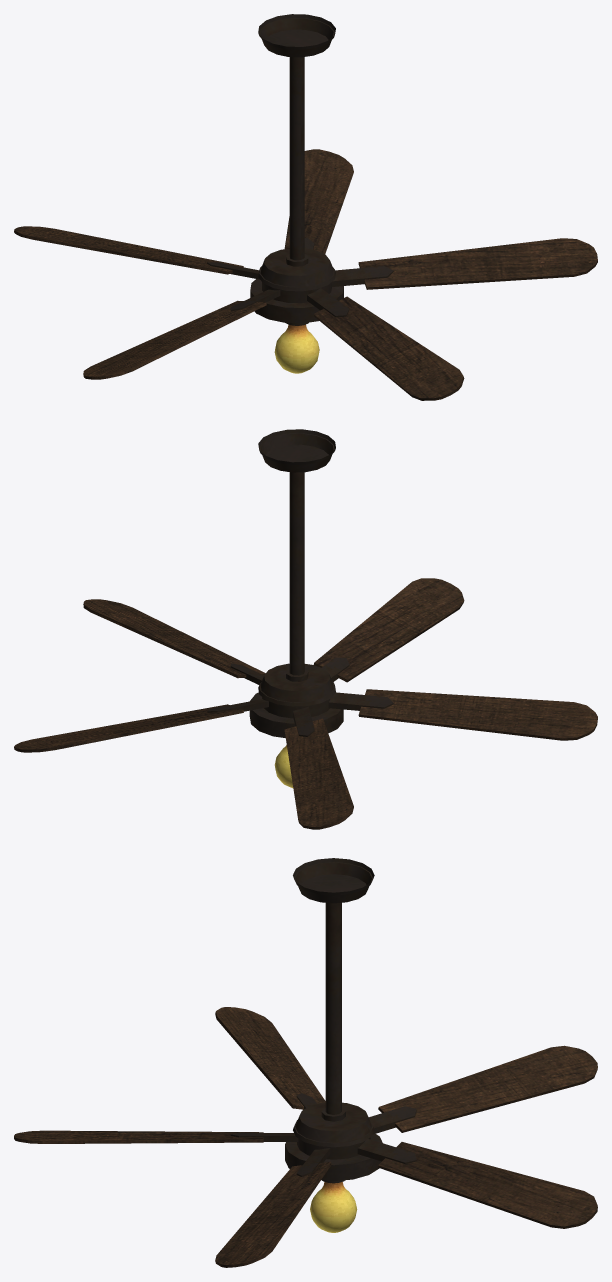
The model's file is ceiling_fan_mp_2_1_light_on.dae.
The picture shows the model from 3 angles, top to bottom: view 1: azimuth 30°, elevation 25°; view 2: azimuth 150°, elevation 25°; view 3: azimuth 270°, elevation 25°; orthographic projection. The views are drawn at different scales.
Parts seen in each view (by area): view 1: ceiling_fan_mp_2_1_light_on_blades, ceiling_fan_mp_2_1_light_on; view 2: ceiling_fan_mp_2_1_light_on_blades, ceiling_fan_mp_2_1_light_on; view 3: ceiling_fan_mp_2_1_light_on_blades, ceiling_fan_mp_2_1_light_on.
Boxes of the visible parts, x1,y1,x2,y2 form: ceiling_fan_mp_2_1_light_on_blades: (14,149,597,400); ceiling_fan_mp_2_1_light_on: (250,14,343,373); ceiling_fan_mp_2_1_light_on_blades: (14,578,597,829); ceiling_fan_mp_2_1_light_on: (249,429,343,788); ceiling_fan_mp_2_1_light_on_blades: (14,1007,597,1267); ceiling_fan_mp_2_1_light_on: (285,858,382,1232).
Size of the model in its own units: 1.11 by 1.06 by 0.7128.
Materials: 3 (3 with a texture image).
